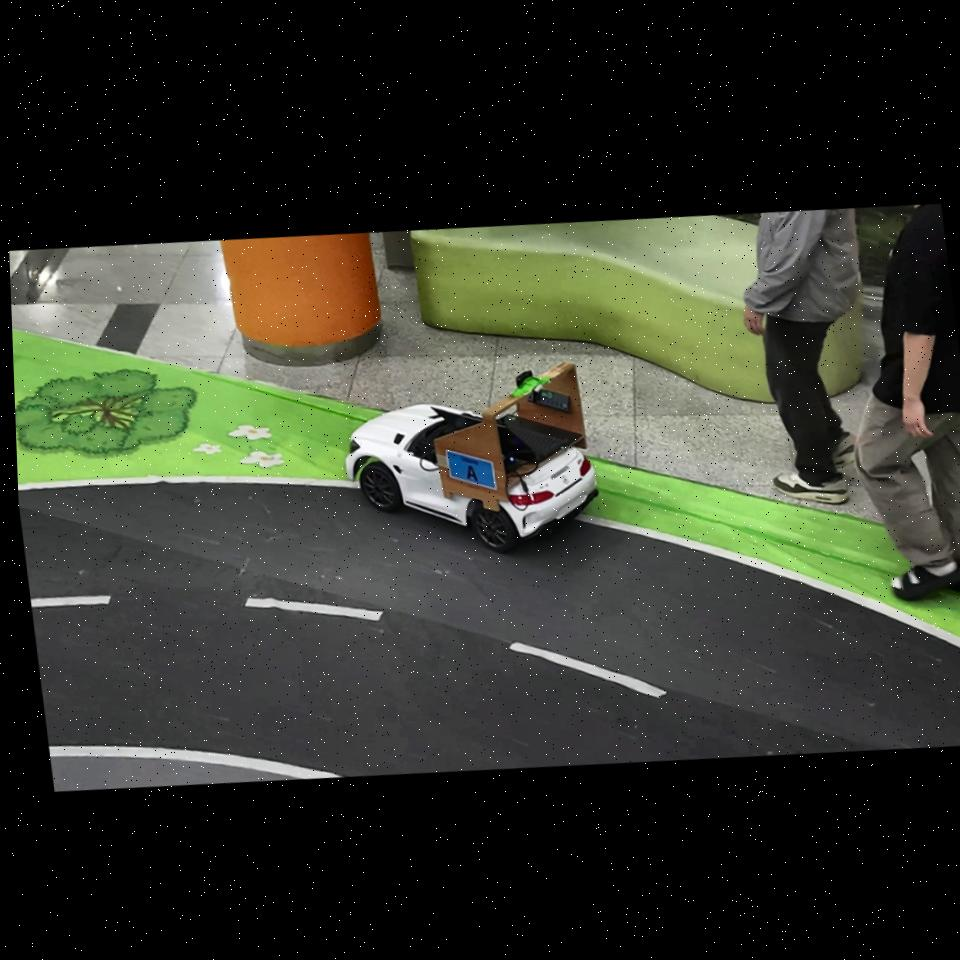broken_line: (509, 642, 668, 698), (244, 597, 384, 621), (31, 595, 111, 608)
